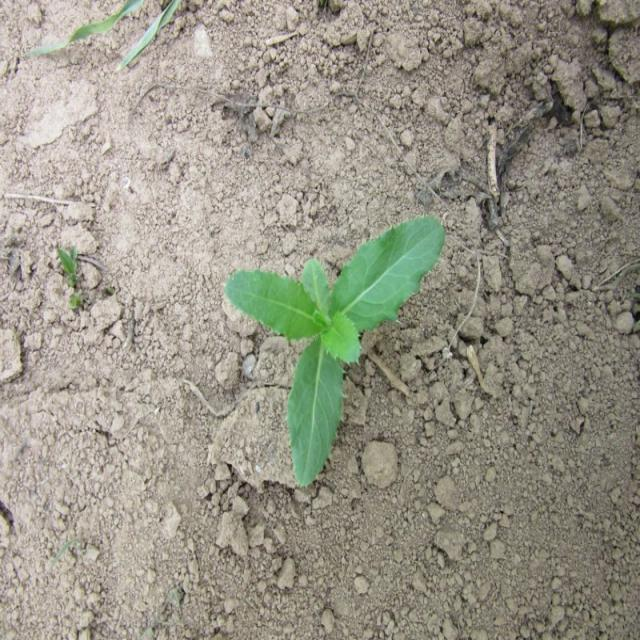cs: (225, 213, 449, 488)
